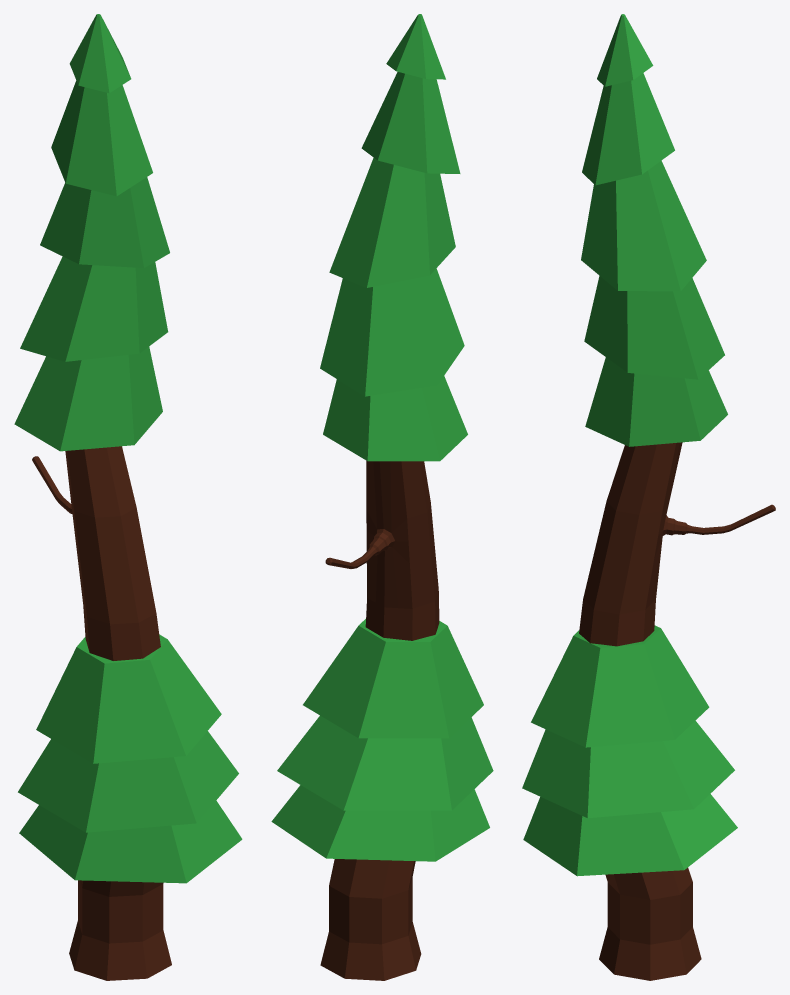
The model's file is treeB.fbx.
The picture shows the model from 3 angles, left to right: view 1: azimuth 30°, elevation 25°; view 2: azimuth 150°, elevation 25°; view 3: azimuth 270°, elevation 25°; orthographic projection. The views are drawn at different scales.
Visible parts, largest first — view 1: treeB; view 2: treeB; view 3: treeB.
Part boxes in pixels (<box>): treeB: <box>14,14,242,980</box>; treeB: <box>271,14,493,980</box>; treeB: <box>522,14,775,980</box>.
Size of the model in its own units: 233 by 1200 by 298.
